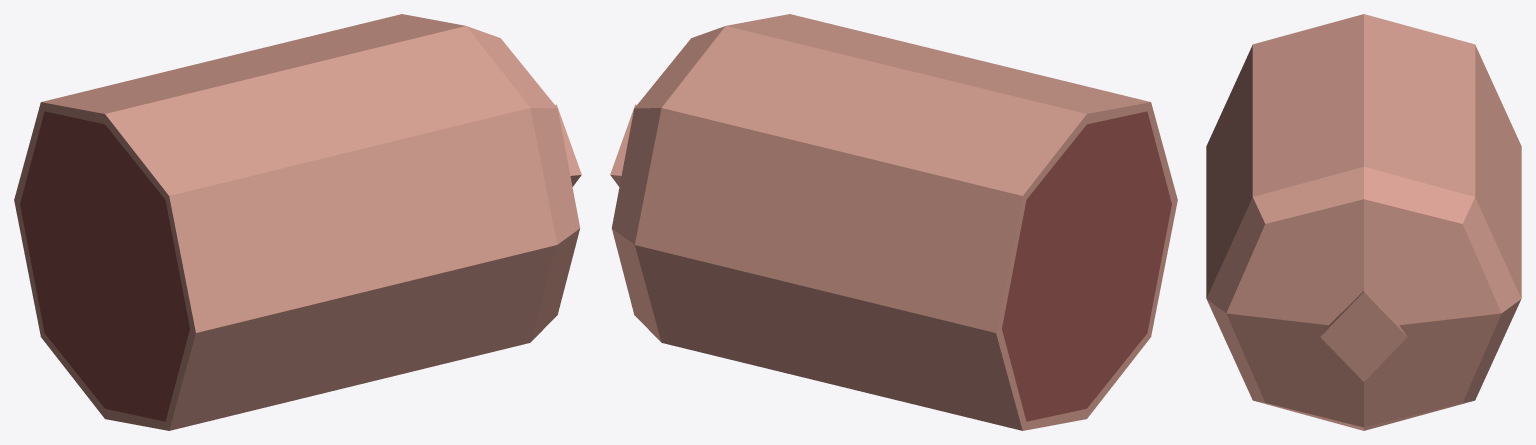
Rendered from casedSausageWhole.fbx.
The picture shows the model from 3 angles, left to right: view 1: azimuth 30°, elevation 25°; view 2: azimuth 150°, elevation 25°; view 3: azimuth 270°, elevation 25°; orthographic projection. The views are drawn at different scales.
Visible parts, largest first — view 1: casedSausageWhole; view 2: casedSausageWhole; view 3: casedSausageWhole.
Boxes of the visible parts, left/top/right/bottom form: casedSausageWhole: left=14, top=14, right=581, bottom=430; casedSausageWhole: left=610, top=14, right=1177, bottom=430; casedSausageWhole: left=1206, top=14, right=1521, bottom=430.
Size of the model in its own units: 12.12 by 7.82 by 8.45.
Materials: 1 (1 with a texture image).
